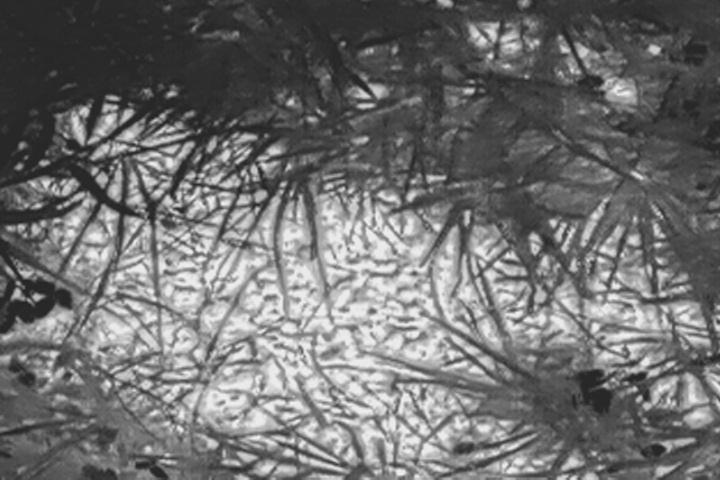landmine: (102, 100, 537, 480)
